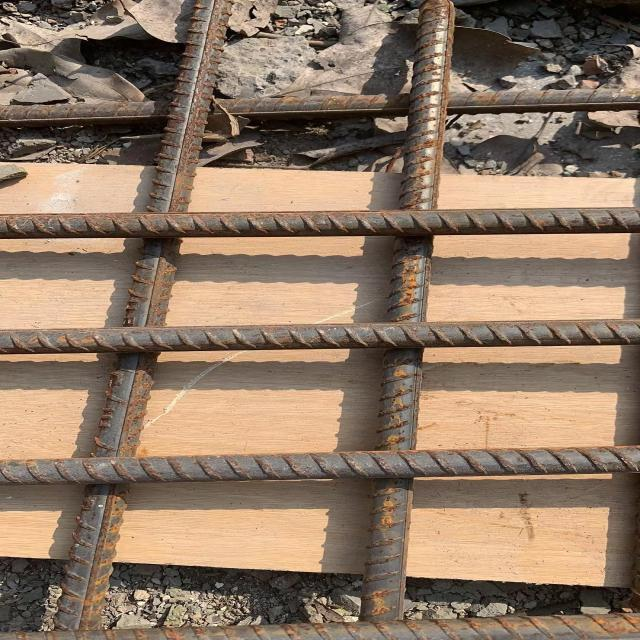ribbed bar: (52, 0, 238, 631), (357, 0, 457, 623), (0, 84, 639, 127), (0, 446, 639, 489), (0, 317, 639, 354), (0, 207, 639, 238), (0, 613, 639, 639)
